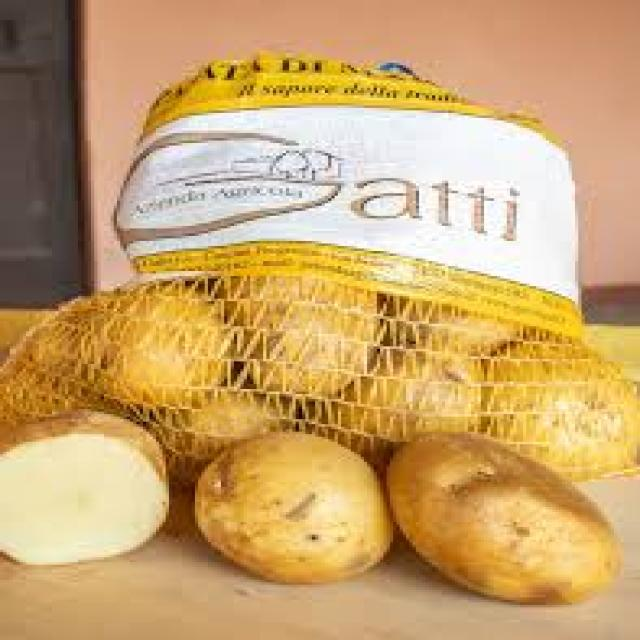Potato: (178, 404, 405, 614), (352, 418, 626, 580), (70, 265, 220, 413)
